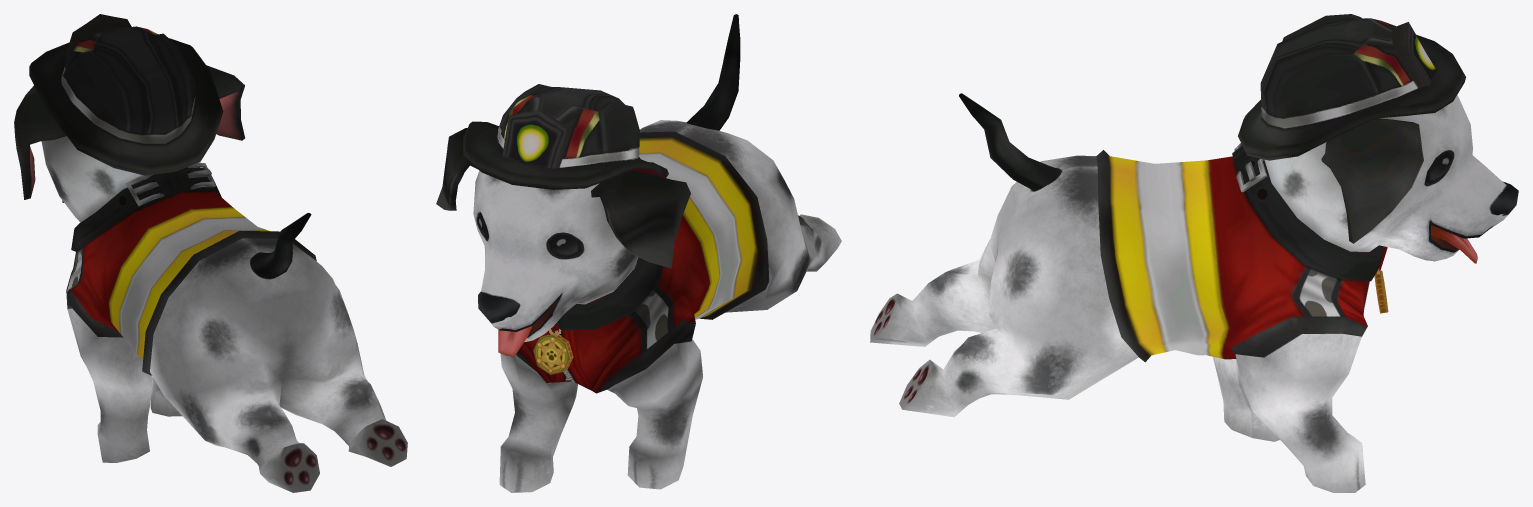
File: mvr_pet2025firefighter-et04.glb
3 renders of one model, left to right at view 1: azimuth 30°, elevation 25°; view 2: azimuth 150°, elevation 25°; view 3: azimuth 270°, elevation 25°, orthographic. The views are drawn at different scales.
Parts seen in each view (by area): view 1: MonsterMesh; view 2: MonsterMesh; view 3: MonsterMesh.
Part boxes in pixels (x1=…): MonsterMesh: x1=14, y1=14, x2=407, y2=492; MonsterMesh: x1=436, y1=14, x2=841, y2=492; MonsterMesh: x1=870, y1=14, x2=1518, y2=492.
Size of the model in its own units: 0.3529 by 0.5666 by 0.7608.
1 material, 1 textured.
